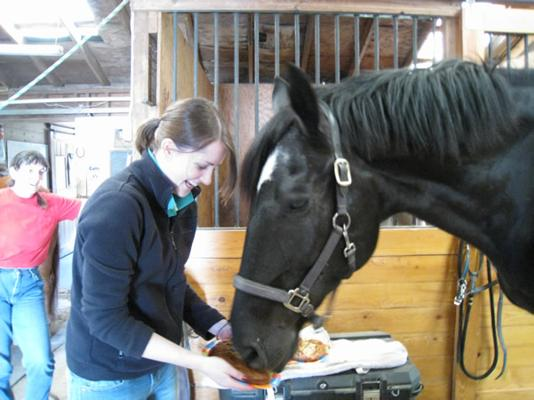person: (68, 97, 248, 400)
